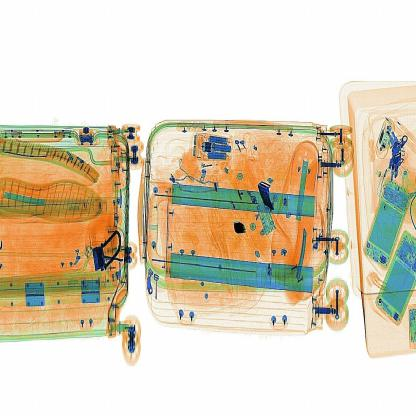scissors: (227, 215, 253, 243)
